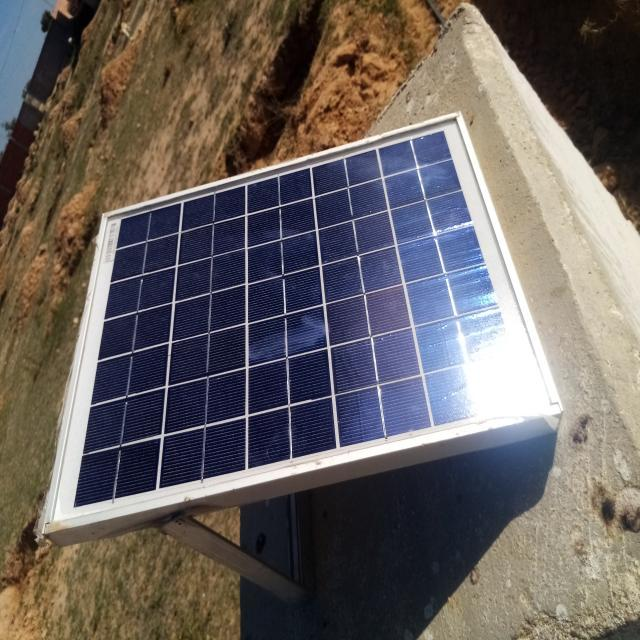no faulty: (38, 111, 557, 523)
